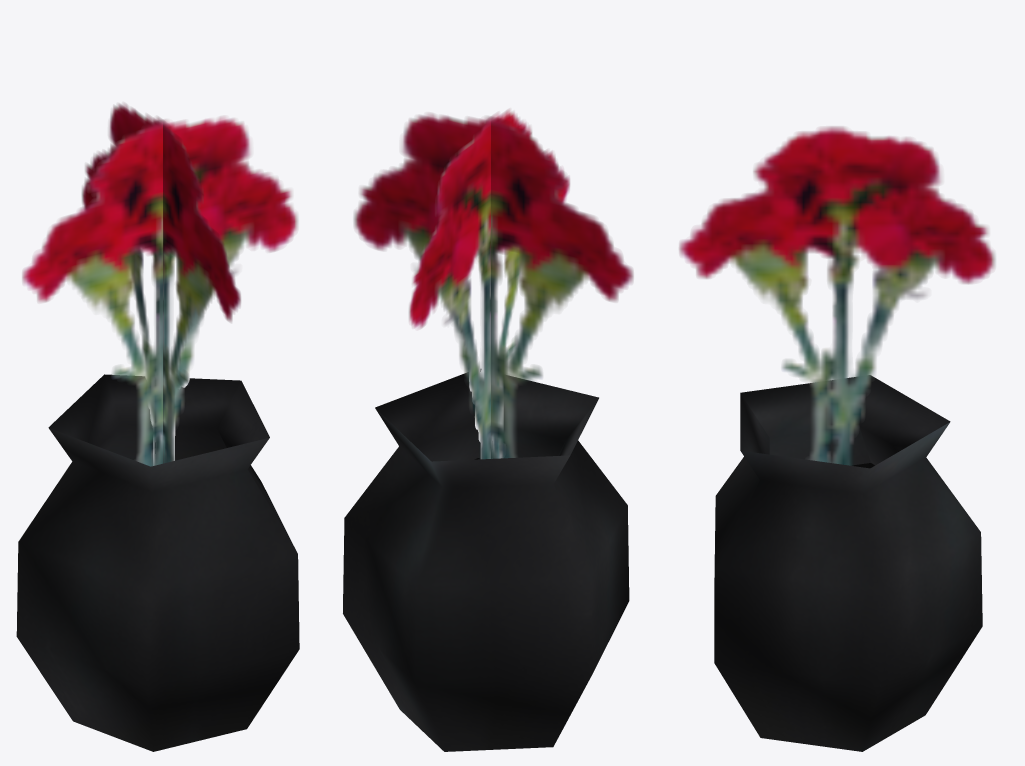
The model's file is Flower_Table_01-col.glb.
The picture shows the model from 3 angles, left to right: view 1: azimuth 30°, elevation 25°; view 2: azimuth 150°, elevation 25°; view 3: azimuth 270°, elevation 25°; orthographic projection. The views are drawn at different scales.
Visible parts, largest first — view 1: Flower_Table_01-col; view 2: Flower_Table_01-col; view 3: Flower_Table_01-col.
Boxes of the visible parts, x1,y1,x2,y2 form: Flower_Table_01-col: (16,103,299,751); Flower_Table_01-col: (343,109,633,751); Flower_Table_01-col: (679,126,995,751).
Size of the model in its own units: 3.06 by 6.23 by 3.06.
1 material, 1 textured.
